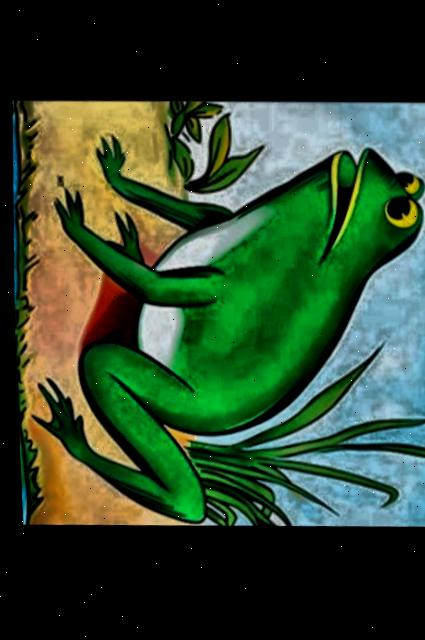La Rana: (3, 89, 425, 539)
